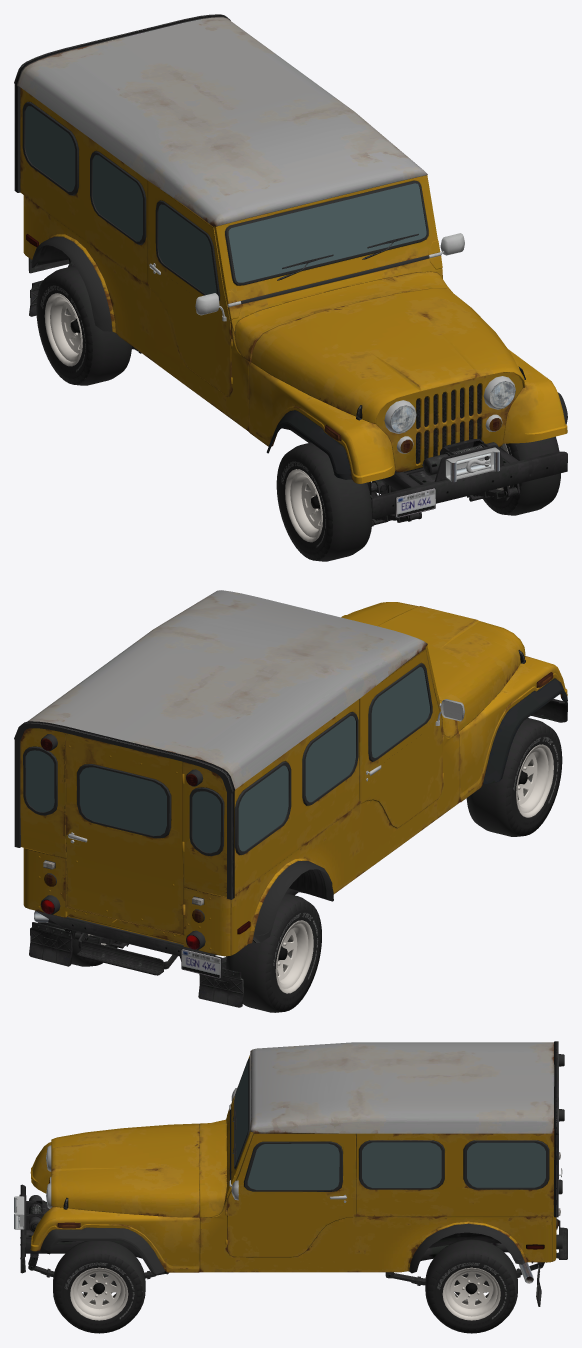
The model's file is jalees_03.fbx.
3 views of the same model, one above another, from view 1: azimuth 30°, elevation 25°; view 2: azimuth 150°, elevation 25°; view 3: azimuth 270°, elevation 25° (orthographic). The views are drawn at different scales.
Visible parts, largest first — view 1: BodyShape, Doorcard_FL1, FR, RR, FL; view 2: BodyShape, Doorcard_FL1, RR, FR; view 3: BodyShape, Doorcard_FL1, RL, FL.
Boxes of the visible parts, <box> form: BodyShape: <box>17,17,567,526</box>; Doorcard_FL1: <box>14,14,567,517</box>; FR: <box>276,442,372,561</box>; RR: <box>36,265,131,385</box>; FL: <box>483,436,560,515</box>; BodyShape: <box>20,590,567,968</box>; Doorcard_FL1: <box>14,650,567,1007</box>; RR: <box>226,893,321,1012</box>; FR: <box>466,718,562,836</box>; BodyShape: <box>14,1042,564,1299</box>; Doorcard_FL1: <box>19,1041,567,1306</box>; RL: <box>425,1239,517,1333</box>; FL: <box>53,1241,145,1333</box>.
Bounding box in the file's own units: 94.78 × 94.9 × 219.
7 materials, 7 textured.
